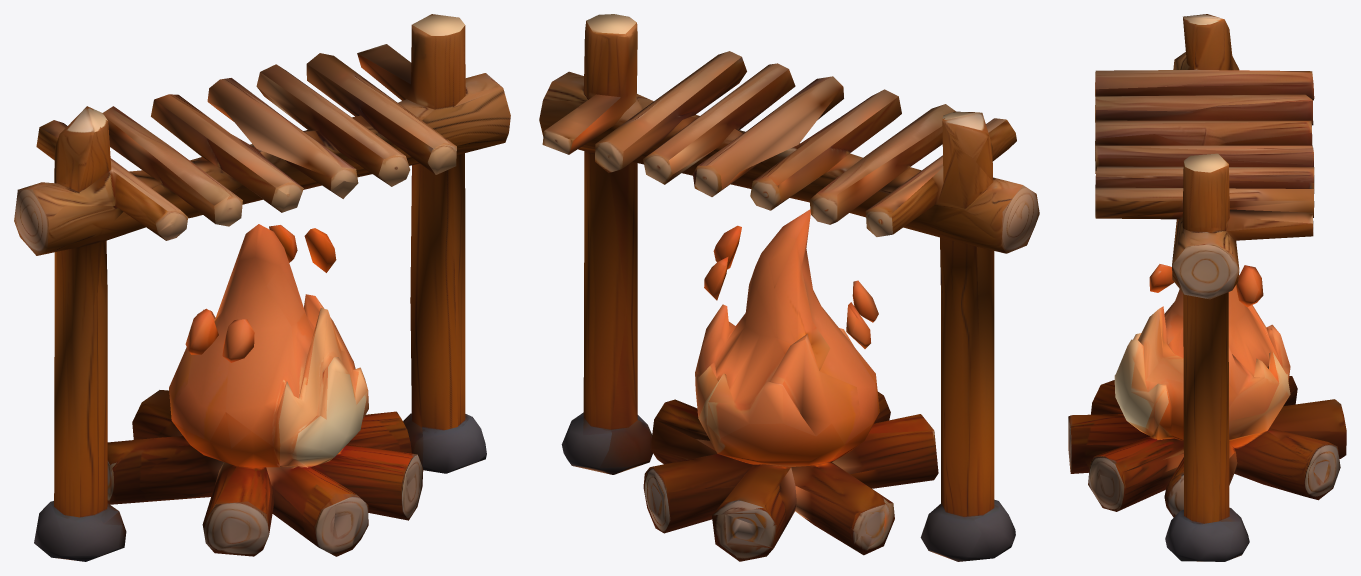
3 renders of one model, left to right at view 1: azimuth 30°, elevation 25°; view 2: azimuth 150°, elevation 25°; view 3: azimuth 270°, elevation 25°, orthographic. The views are drawn at different scales.
Parts seen in each view (by area): view 1: texture_pbr_v128; view 2: texture_pbr_v128; view 3: texture_pbr_v128.
Boxes of the visible parts, x1,y1,x2,y2 form: texture_pbr_v128: (14,14,510,561); texture_pbr_v128: (539,14,1039,561); texture_pbr_v128: (1068,14,1346,561).
Size of the model in its own units: 92.92 by 82.85 by 54.35.
Materials: 1 (1 with a texture image).
